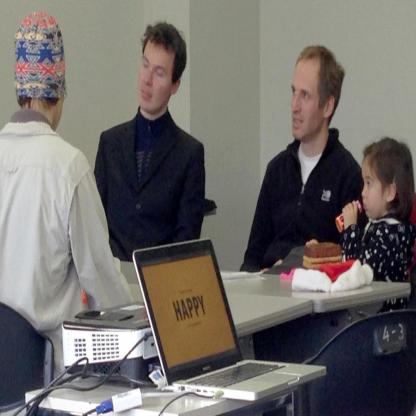board: (137, 272, 343, 412)
